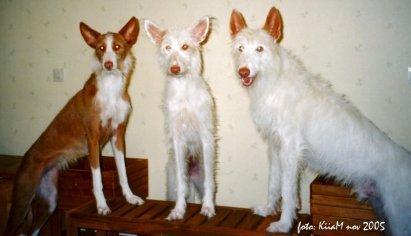Ibizan_hound: (229, 7, 409, 235), (10, 13, 143, 228), (145, 15, 218, 221)
